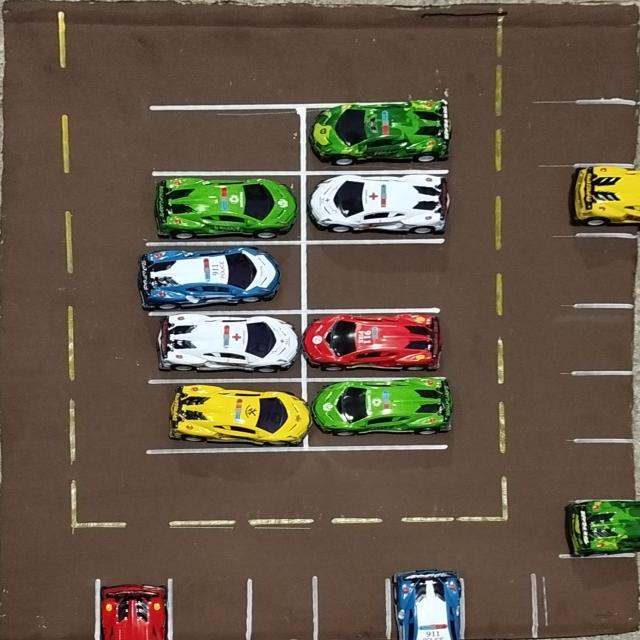libre: (150, 105, 302, 172), (304, 242, 439, 308), (0, 569, 99, 640), (170, 567, 247, 640), (312, 570, 390, 639), (463, 566, 538, 629), (251, 567, 315, 640), (572, 372, 640, 440), (575, 236, 640, 307), (573, 305, 640, 372), (572, 441, 640, 499), (579, 102, 640, 164)
no_estacionarse: (539, 558, 640, 640)
ocupado: (148, 172, 302, 242), (146, 382, 306, 449), (147, 313, 306, 380), (146, 242, 302, 310), (302, 104, 452, 171), (304, 172, 450, 240), (305, 380, 449, 448), (306, 310, 446, 379), (392, 566, 462, 640), (100, 569, 169, 640), (574, 164, 640, 236), (565, 501, 640, 557)
